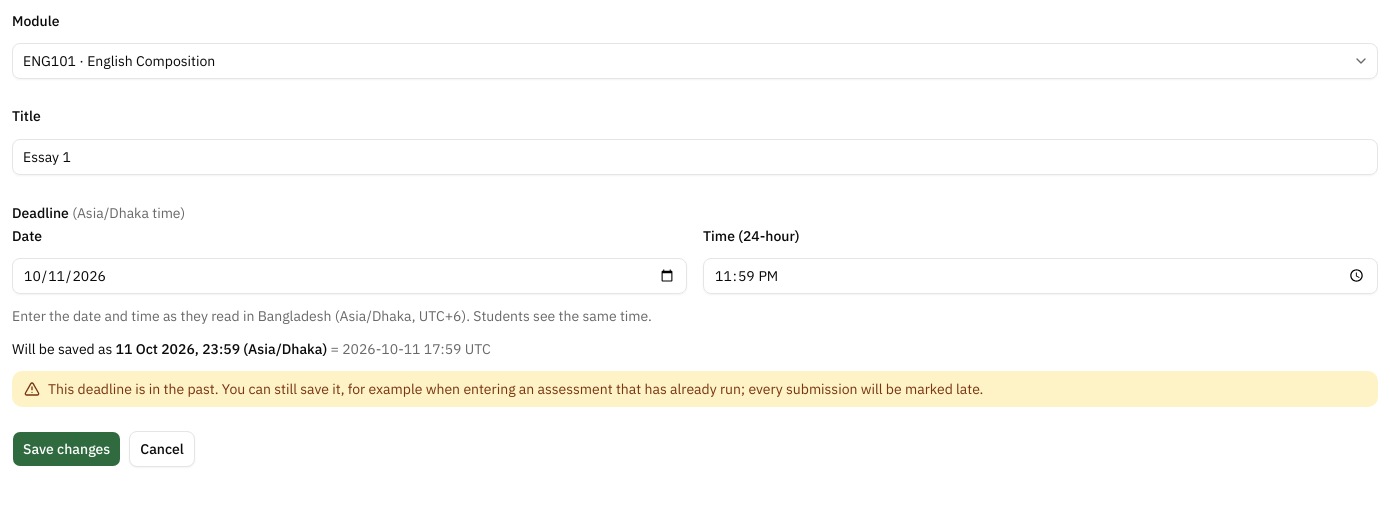
Test case: edit assessment form › puts the 'module cannot change' rule on the module field
Click the dropdown named "Module" at (50, 61), box 12,43 -> 1378,79
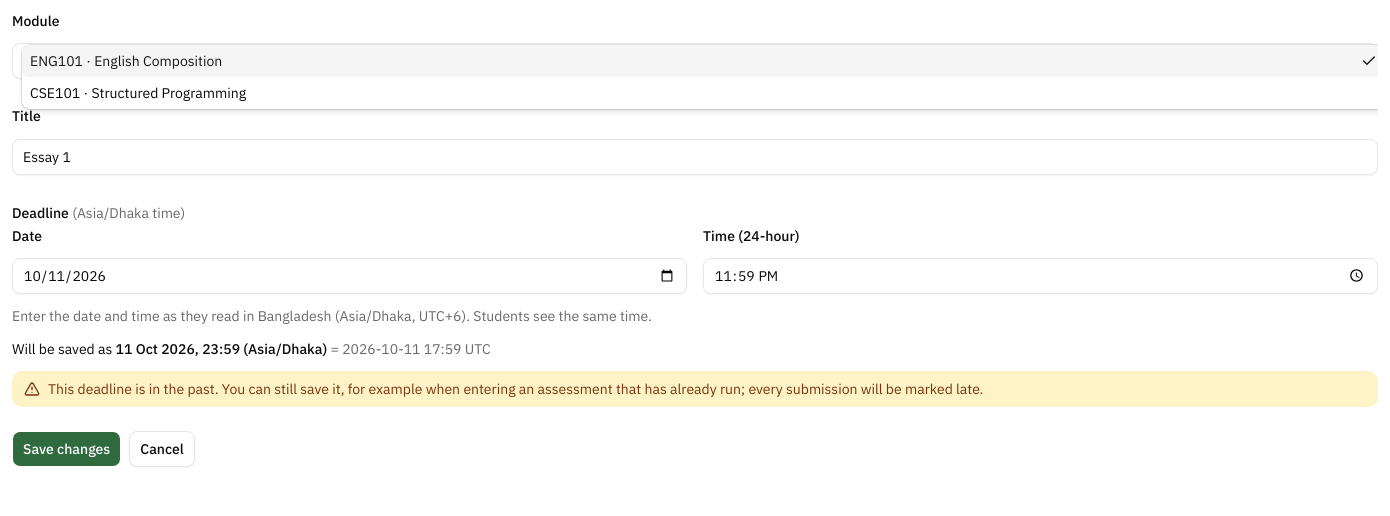
Click the option "CSE101 · Structured Programming" at (138, 93), box 30,84 -> 246,102
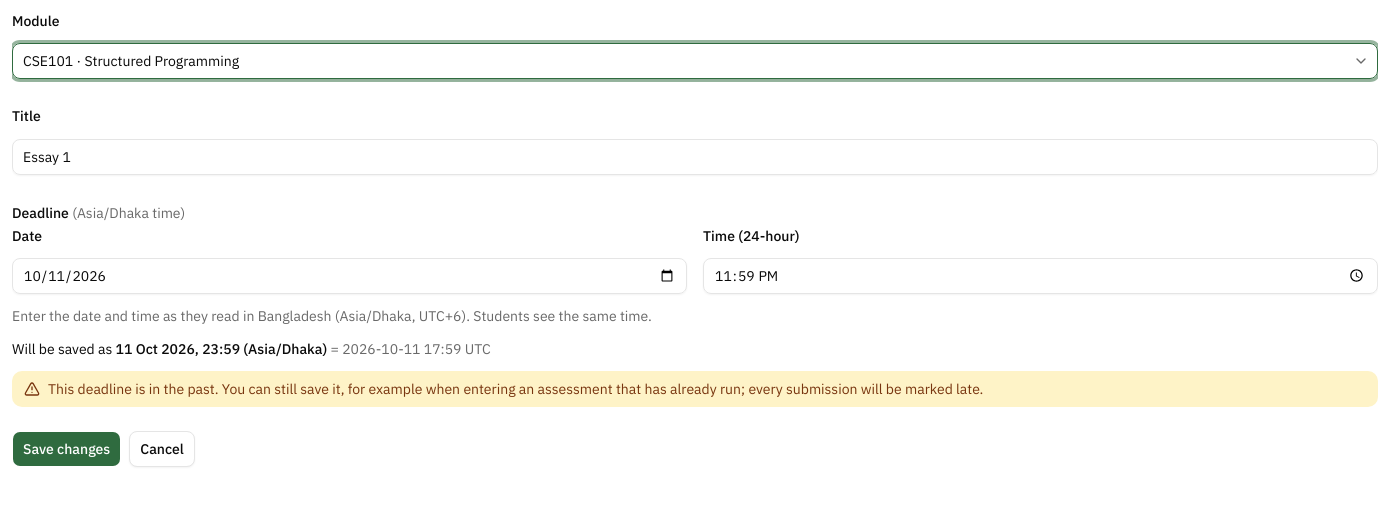
Click the button "Save changes" at (67, 449), box 12,431 -> 121,467
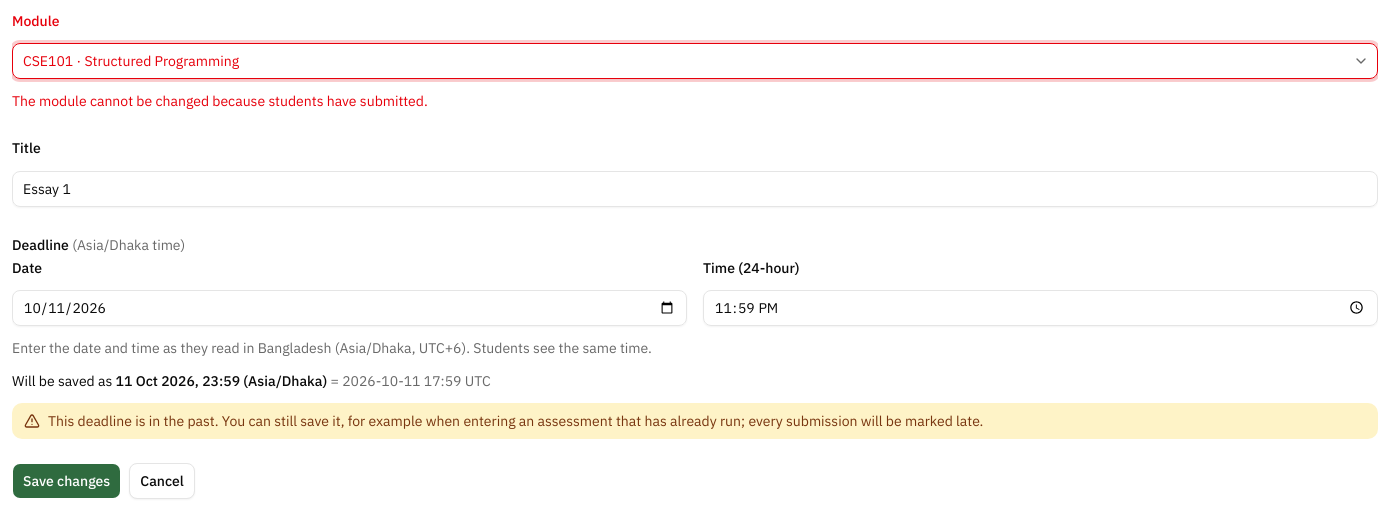
Expected: the text "The module cannot be changed because students have submitted." is shown, 12,92 -> 428,110
